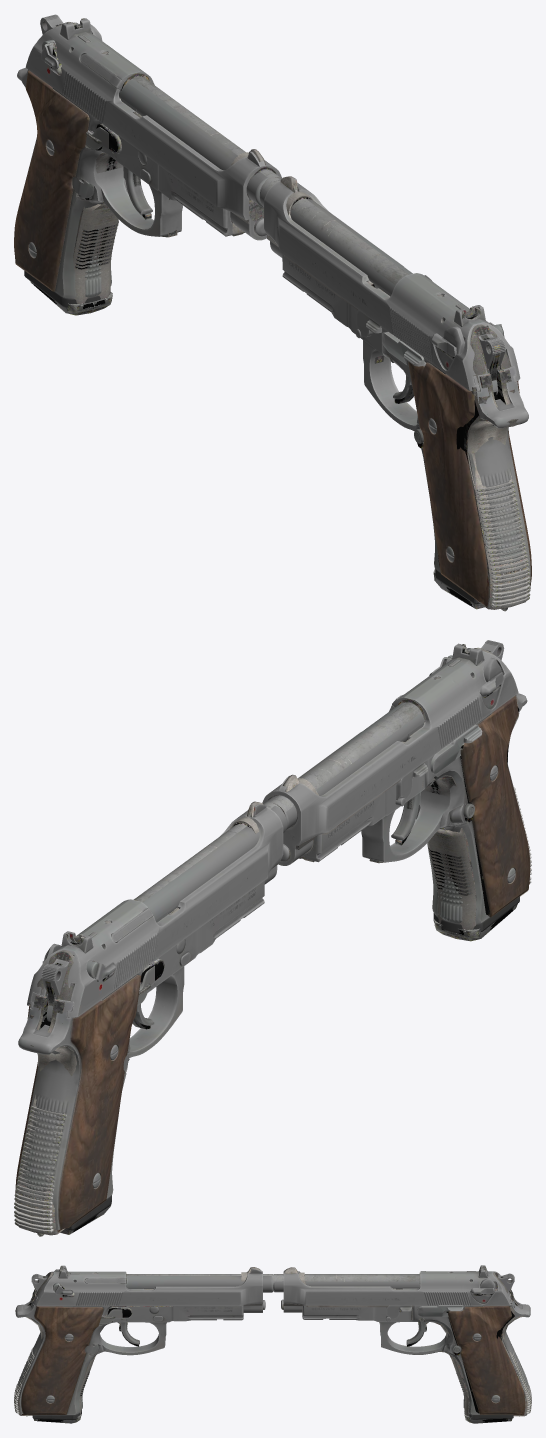
The picture shows the model from 3 angles, top to bottom: view 1: azimuth 30°, elevation 25°; view 2: azimuth 150°, elevation 25°; view 3: azimuth 270°, elevation 25°; orthographic projection. The views are drawn at different scales.
Parts seen in each view (by area): view 1: weapons\models\elite\weapon_pist_elite.vmdl_c.body_hd, weapons\models\elite\weapon_pist_elite.vmdl_c.body_legacy.00; view 2: weapons\models\elite\weapon_pist_elite.vmdl_c.body_hd, weapons\models\elite\weapon_pist_elite.vmdl_c.body_legacy.00; view 3: weapons\models\elite\weapon_pist_elite.vmdl_c.body_hd, weapons\models\elite\weapon_pist_elite.vmdl_c.body_legacy.00.
Boxes of the visible parts, x1=… form: weapons\models\elite\weapon_pist_elite.vmdl_c.body_hd: x1=14, y1=14, x2=531, y2=604; weapons\models\elite\weapon_pist_elite.vmdl_c.body_legacy.00: x1=30, y1=18, x2=530, y2=611; weapons\models\elite\weapon_pist_elite.vmdl_c.body_hd: x1=15, y1=640, x2=530, y2=1230; weapons\models\elite\weapon_pist_elite.vmdl_c.body_legacy.00: x1=14, y1=644, x2=531, y2=1236; weapons\models\elite\weapon_pist_elite.vmdl_c.body_hd: x1=15, y1=1265, x2=530, y2=1420; weapons\models\elite\weapon_pist_elite.vmdl_c.body_legacy.00: x1=14, y1=1266, x2=531, y2=1423.
Size of the model in its own units: 0.0429 by 0.1704 by 0.5287.
Materials: 2 (2 with a texture image).
